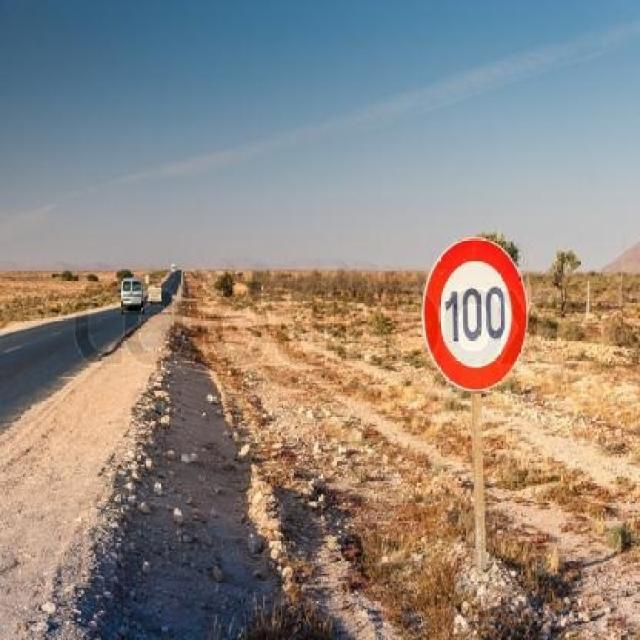forb_speed_over_100: (427, 238, 527, 393)
